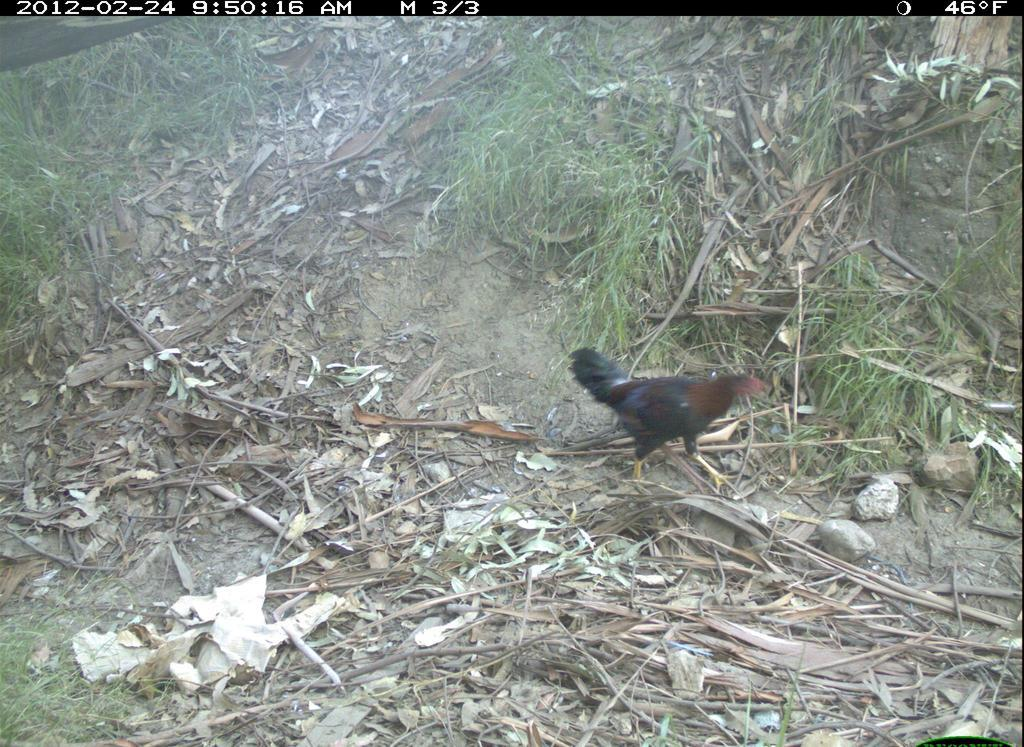bird: (555, 310, 802, 504)
